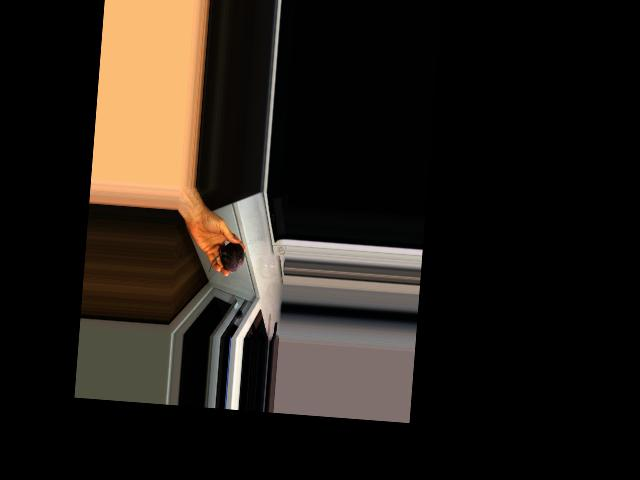beet: (208, 241, 245, 275)
